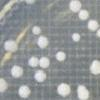white: (56, 81, 72, 99), (2, 38, 19, 54), (17, 82, 32, 100), (85, 17, 100, 33), (9, 64, 24, 80), (36, 33, 49, 50), (67, 0, 84, 13), (76, 83, 89, 100), (34, 69, 48, 84), (0, 76, 9, 98), (76, 7, 89, 22), (54, 49, 67, 64), (89, 58, 100, 74), (27, 55, 40, 68), (39, 56, 51, 70), (30, 25, 43, 37), (86, 64, 98, 77), (69, 32, 82, 43), (22, 0, 38, 6), (94, 25, 100, 39)
